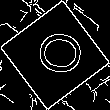O_W: (27, 30, 83, 80)
